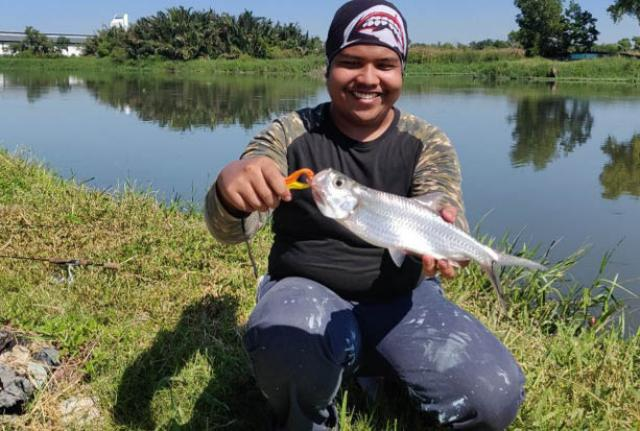Mulut: (306, 164, 336, 195)
Sirip Ekor: (480, 240, 550, 310)
Sirip Perut: (384, 242, 412, 272)
Sirip Punggung: (408, 186, 452, 218)
